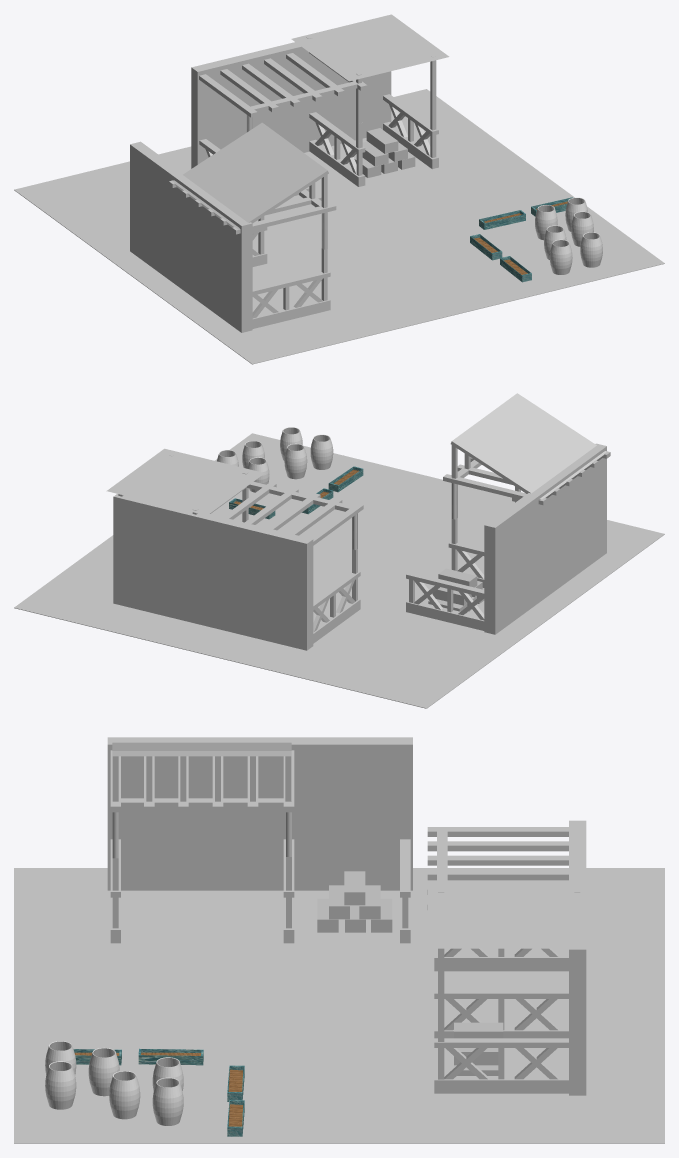
File: humanStable5.fbx
3 views of the same model, one above another, from view 1: azimuth 30°, elevation 25°; view 2: azimuth 150°, elevation 25°; view 3: azimuth 270°, elevation 25° (orthographic). The views are drawn at different scales.
Visible parts, largest first — view 1: Floor, StoneWall, Tejado, Madera1, Plane, Madera3, Barriles, Madera2, Paja, Bebederos, Madera5; view 2: Floor, StoneWall, Tejado, Plane, Madera3, Madera1, Barriles, Madera2, Paja, Bebederos; view 3: Floor, StoneWall, Madera1, Plane, Madera3, Barriles, Paja, Madera2, Tejado, Bebederos, Madera4, Madera5.
Boxes of the visible parts, left/top/right/bottom form: Floor: left=14, top=89, right=664, bottom=364; StoneWall: left=130, top=42, right=391, bottom=332; Tejado: left=172, top=122, right=328, bottom=229; Madera1: left=199, top=94, right=438, bottom=328; Plane: left=291, top=14, right=449, bottom=81; Madera3: left=168, top=52, right=367, bottom=234; Barriles: left=535, top=197, right=602, bottom=274; Madera2: left=205, top=104, right=430, bottom=318; Paja: left=354, top=128, right=415, bottom=177; Bebederos: left=470, top=197, right=572, bottom=282; Madera5: left=306, top=36, right=436, bottom=148; Floor: left=14, top=433, right=664, bottom=708; StoneWall: left=113, top=443, right=606, bottom=650; Tejado: left=450, top=393, right=606, bottom=499; Plane: left=106, top=448, right=264, bottom=515; Madera3: left=210, top=451, right=610, bottom=545; Madera1: left=313, top=478, right=520, bottom=643; Barriles: left=217, top=427, right=333, bottom=492; Madera2: left=313, top=549, right=484, bottom=631; Paja: left=428, top=568, right=484, bottom=613; Bebederos: left=229, top=466, right=363, bottom=519; Floor: left=14, top=868, right=664, bottom=1143; StoneWall: left=107, top=737, right=586, bottom=1095; Madera1: left=110, top=798, right=568, bottom=1093; Plane: left=428, top=881, right=586, bottom=948; Madera3: left=110, top=750, right=568, bottom=909; Barriles: left=45, top=1041, right=183, bottom=1125; Paja: left=317, top=871, right=503, bottom=1075; Madera2: left=444, top=948, right=558, bottom=1079; Tejado: left=112, top=742, right=291, bottom=756; Bebederos: left=73, top=1048, right=244, bottom=1136; Madera4: left=112, top=756, right=291, bottom=801; Madera5: left=438, top=890, right=580, bottom=1079.
Size of the model in its own units: 1438 by 468 by 1438.
